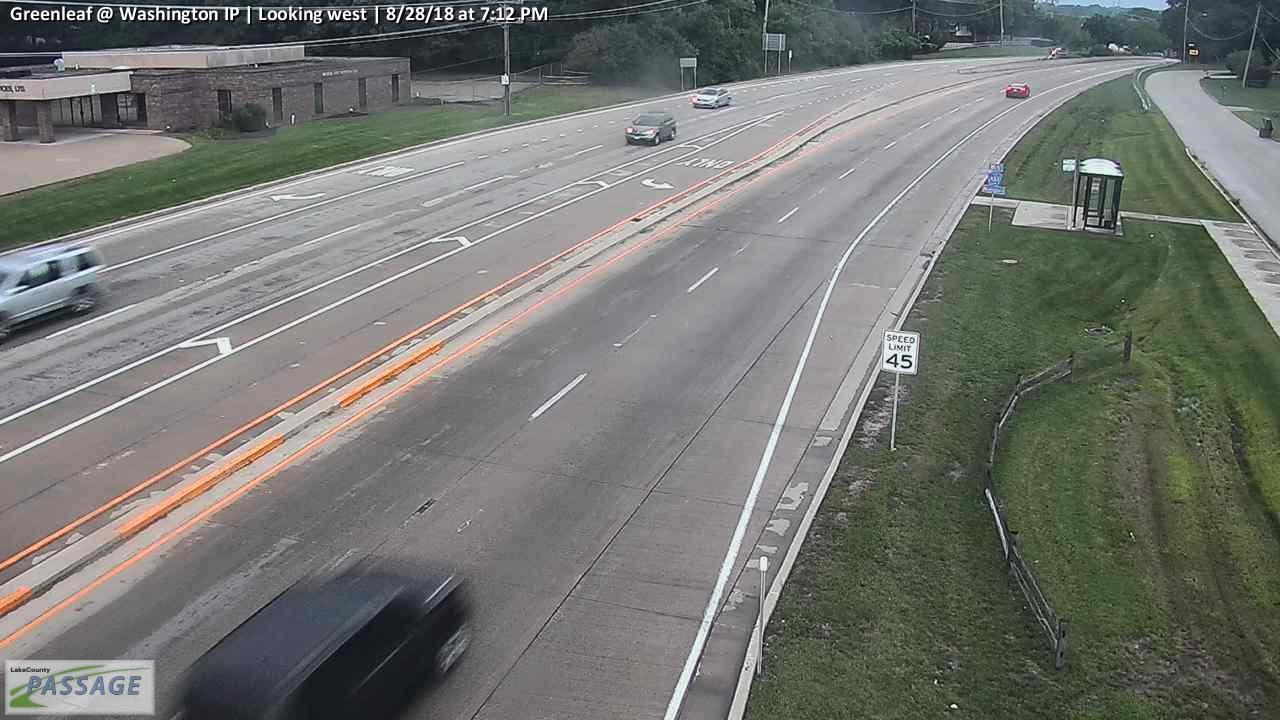SUV: (164, 548, 473, 720), (1, 240, 111, 347), (624, 111, 676, 147)
Sedan: (691, 86, 731, 109), (1006, 82, 1031, 98)
